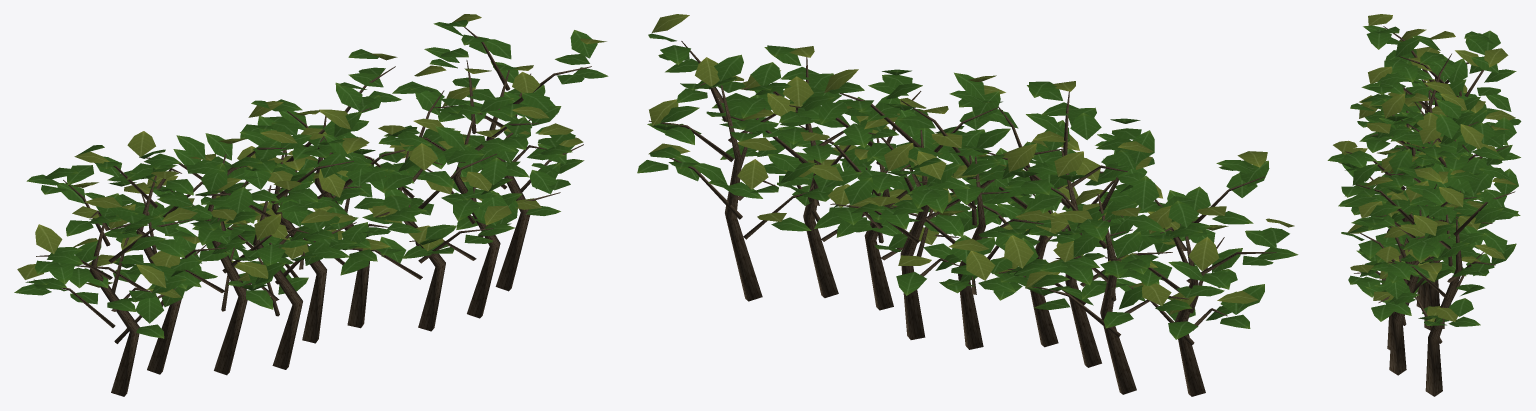
The model's file is frontier_sunmeadow_hawthorn_lod2.glb.
The picture shows the model from 3 angles, left to right: view 1: azimuth 30°, elevation 25°; view 2: azimuth 150°, elevation 25°; view 3: azimuth 270°, elevation 25°; orthographic projection. The views are drawn at different scales.
Visible parts, largest first — view 1: frontier_sunmeadow_hawthorn_LOD2; view 2: frontier_sunmeadow_hawthorn_LOD2; view 3: frontier_sunmeadow_hawthorn_LOD2.
Boxes of the visible parts, x1=… form: frontier_sunmeadow_hawthorn_LOD2: x1=14, y1=14, x2=608, y2=396; frontier_sunmeadow_hawthorn_LOD2: x1=637, y1=14, x2=1298, y2=396; frontier_sunmeadow_hawthorn_LOD2: x1=1327, y1=14, x2=1521, y2=396.
Bounding box in the file's own units: 4.8 × 1.99 × 1.58.
2 materials, 2 textured.
